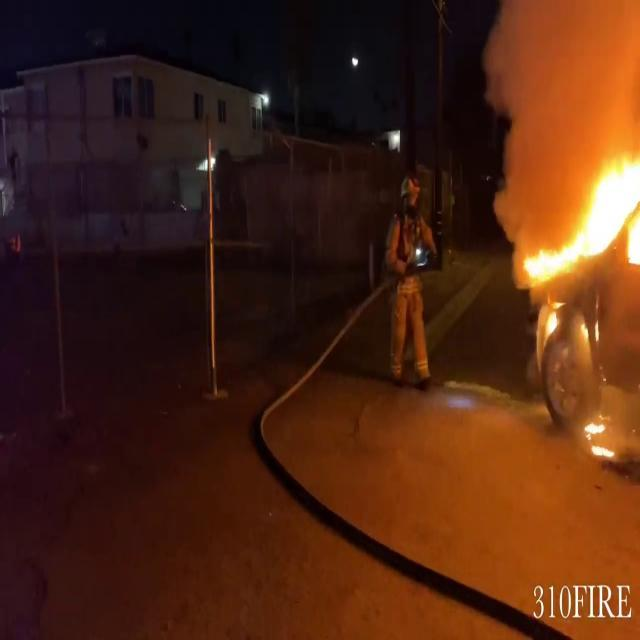Fire: (520, 127, 640, 295)
Smoke: (476, 1, 640, 184)
